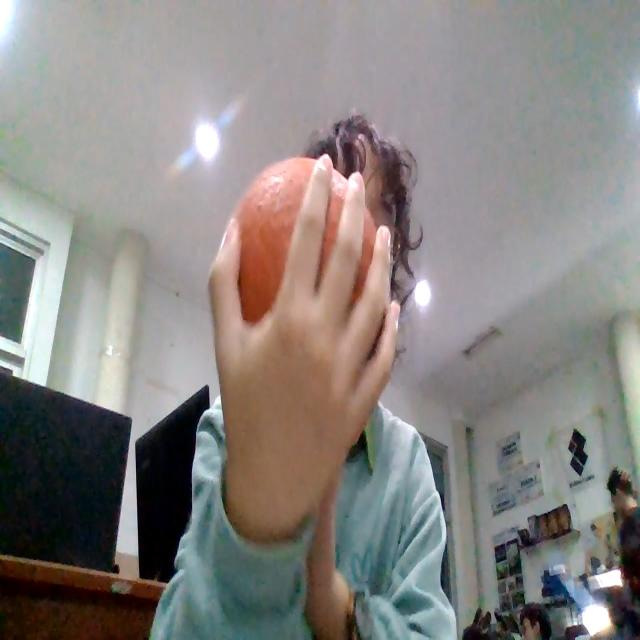ball: (228, 154, 387, 356)
